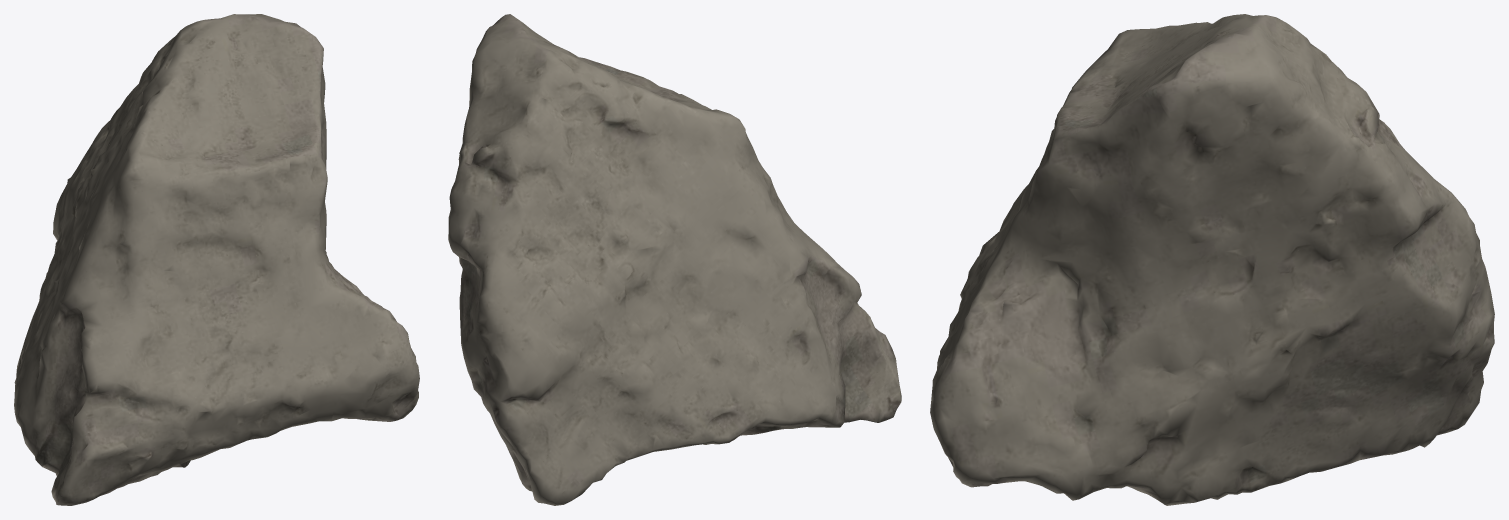
Rendered from moon_rock_05.glb.
3 views of the same model, side by side, from view 1: azimuth 30°, elevation 25°; view 2: azimuth 150°, elevation 25°; view 3: azimuth 270°, elevation 25° (orthographic). The views are drawn at different scales.
Visible parts, largest first — view 1: lod0; view 2: lod0; view 3: lod0.
Part boxes in pixels (x1,y1,x2,y2): lod0: [14, 14, 419, 505]; lod0: [448, 14, 901, 505]; lod0: [930, 14, 1494, 505].
Size of what is drawn, in the model's own units: 1.75 by 1.79 by 1.98.
1 material, 1 textured.
